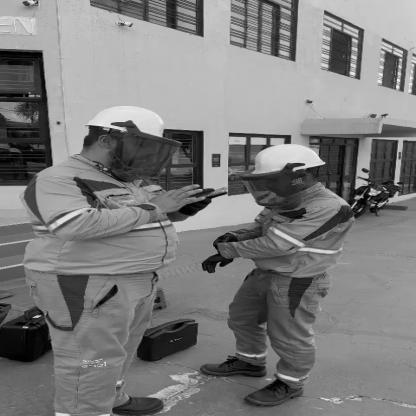helmet: (80, 103, 187, 185), (246, 142, 337, 199)
